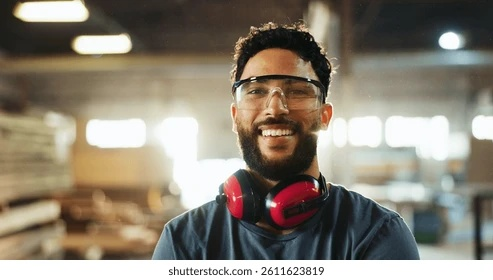safety_goggles: (219, 79, 349, 114)
